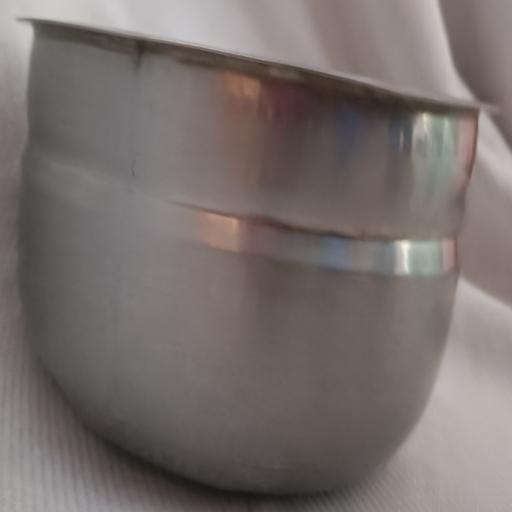vessel: (19, 20, 479, 493)
